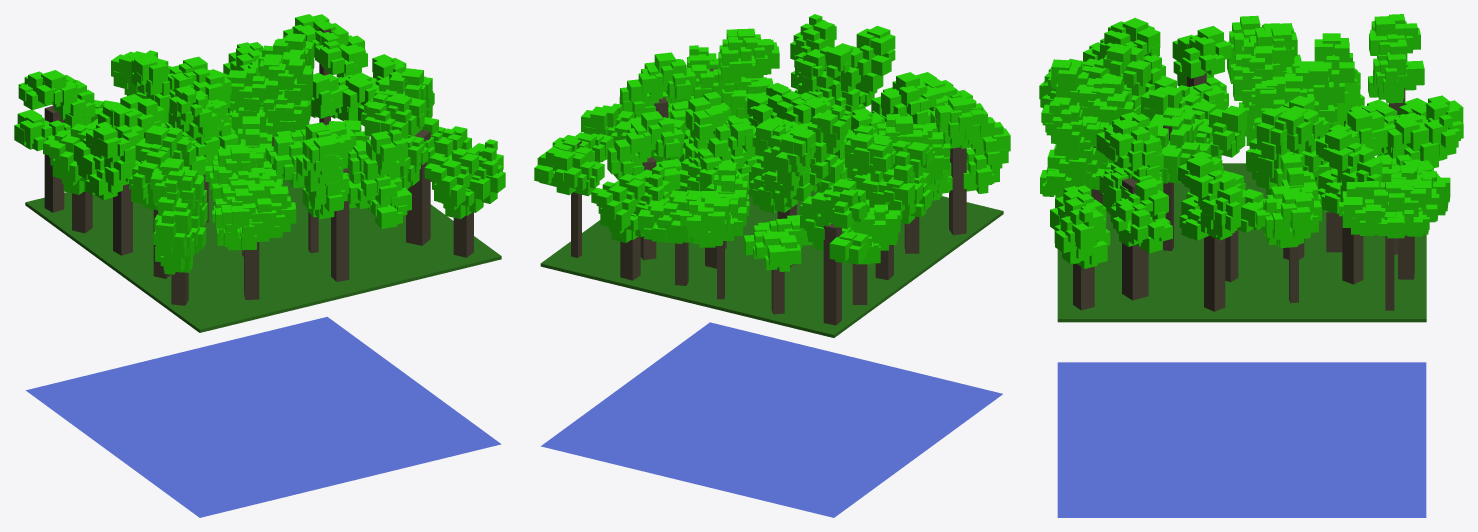
The model's file is 30__tile.fbx.
The picture shows the model from 3 angles, left to right: view 1: azimuth 30°, elevation 25°; view 2: azimuth 150°, elevation 25°; view 3: azimuth 270°, elevation 25°; orthographic projection. The views are drawn at different scales.
Parts seen in each view (by area): view 1: 30__tile; view 2: 30__tile; view 3: 30__tile.
Part boxes in pixels (left/top/right/bottom): 30__tile: left=14, top=14, right=505, bottom=517; 30__tile: left=534, top=14, right=1010, bottom=517; 30__tile: left=1039, top=14, right=1463, bottom=517.
Size of the model in its own units: 227 by 218 by 230.
